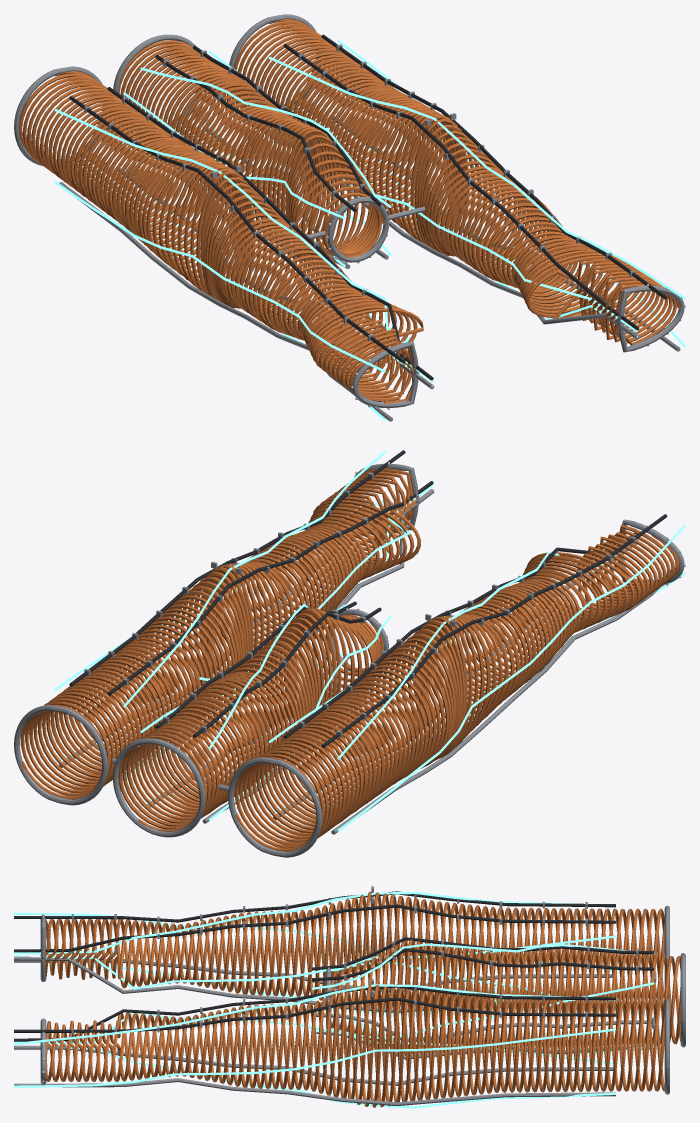
The model's file is wraith_engine_lg.fbx.
3 views of the same model, one above another, from view 1: azimuth 30°, elevation 25°; view 2: azimuth 150°, elevation 25°; view 3: azimuth 270°, elevation 25° (orthographic). The views are drawn at different scales.
Parts seen in each view (by area): view 1: Engine_Legendary; view 2: Engine_Legendary; view 3: Engine_Legendary.
Part boxes in pixels (x1,y1,x2,y2): Engine_Legendary: [14, 14, 685, 421]; Engine_Legendary: [14, 450, 685, 857]; Engine_Legendary: [14, 886, 685, 1108].
Size of the model in its own units: 141 by 53.83 by 275.
